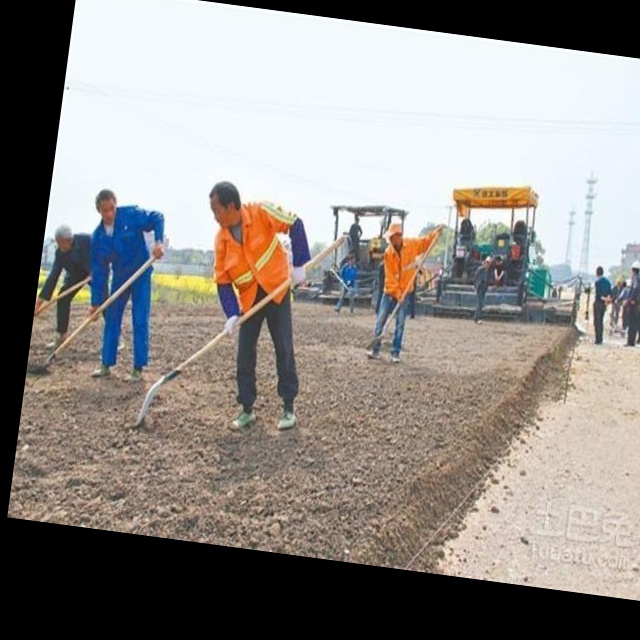Sin_Casco_Mascarrilla: (204, 179, 245, 228)
